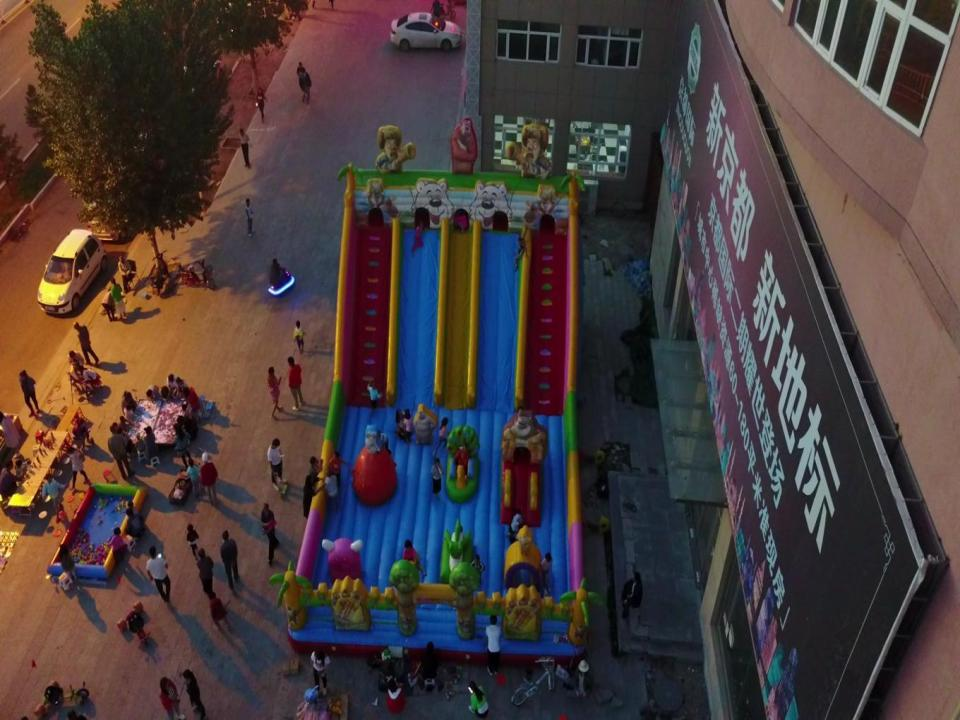car: (34, 227, 108, 318), (84, 167, 156, 243), (390, 10, 462, 56)
